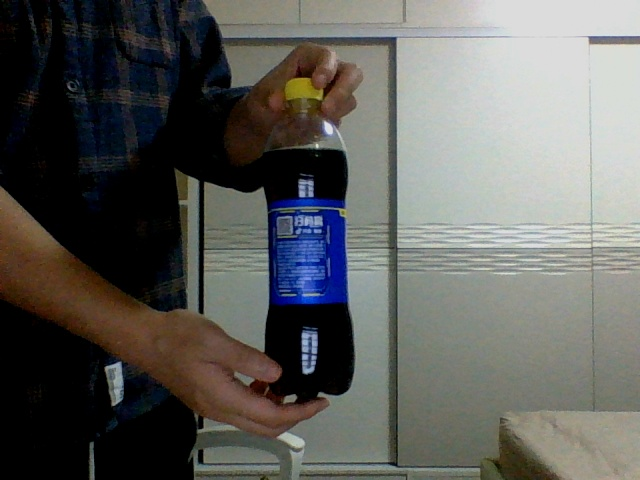Cola: (262, 76, 356, 398)
